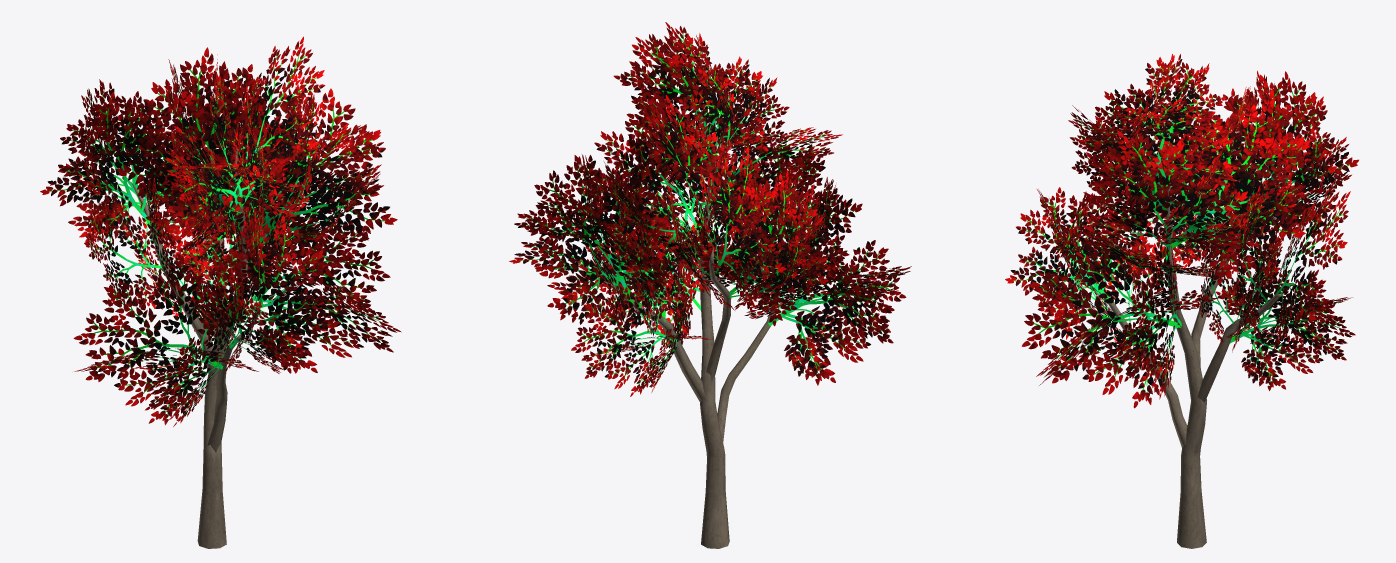
Rendered from SM_Tree_Small_02.fbx.
3 views of the same model, side by side, from view 1: azimuth 30°, elevation 25°; view 2: azimuth 150°, elevation 25°; view 3: azimuth 270°, elevation 25° (orthographic).
Parts seen in each view (by area): view 1: SM_Tree_Small_02_LOD0; view 2: SM_Tree_Small_02_LOD0; view 3: SM_Tree_Small_02_LOD0.
Boxes of the visible parts, box(x1,y1,x2,y2) form: SM_Tree_Small_02_LOD0: box(40, 36, 401, 548); SM_Tree_Small_02_LOD0: box(509, 22, 911, 548); SM_Tree_Small_02_LOD0: box(1005, 54, 1358, 548).
Size of what is drawn, in the model's own units: 738 by 985 by 698.
